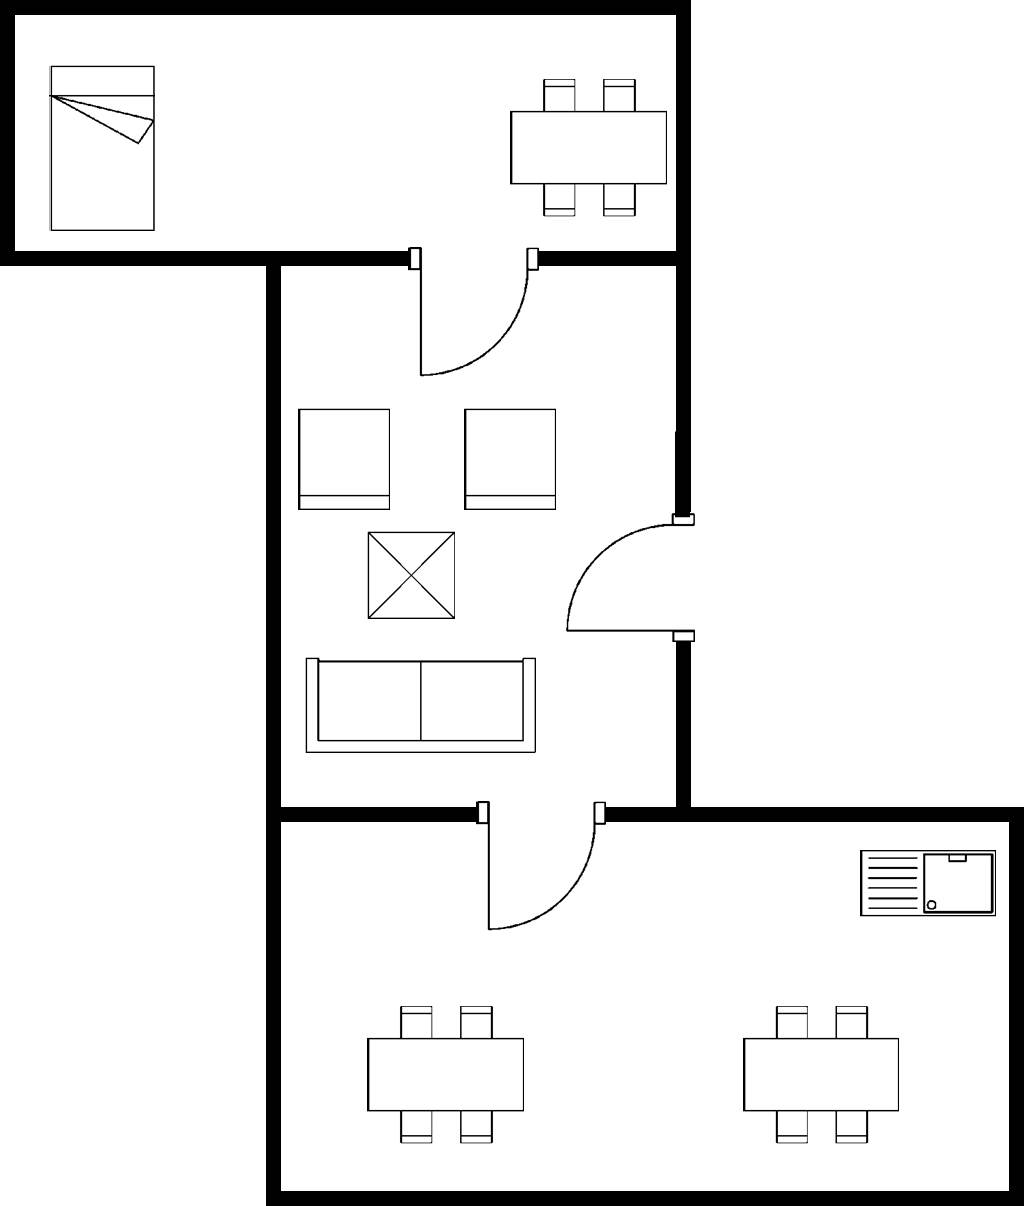bed: (42, 59, 165, 239)
coffee_table: (355, 524, 466, 628)
dining_table: (736, 996, 909, 1150), (501, 71, 674, 226), (359, 999, 532, 1149)
large_sofa: (298, 651, 545, 763)
sink: (851, 841, 1002, 924)
small_sofa: (453, 402, 565, 520), (292, 402, 398, 516)
